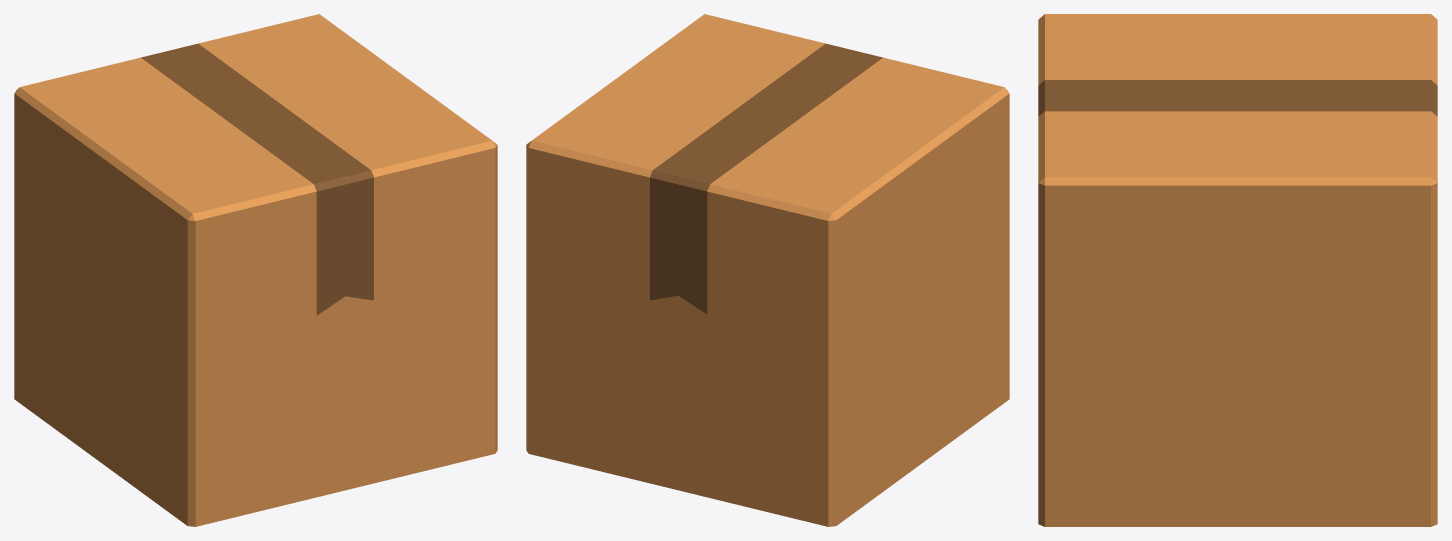
The model's file is Box_Fall.fbx.
The picture shows the model from 3 angles, left to right: view 1: azimuth 30°, elevation 25°; view 2: azimuth 150°, elevation 25°; view 3: azimuth 270°, elevation 25°; orthographic projection. The views are drawn at different scales.
Visible parts, largest first — view 1: Box 1.004; view 2: Box 1.004; view 3: Box 1.004.
Boxes of the visible parts, <box> form: Box 1.004: <box>14,14,497,526</box>; Box 1.004: <box>526,14,1009,526</box>; Box 1.004: <box>1038,14,1437,526</box>.
Bounding box in the file's own units: 21.57 × 20.68 × 21.57.
